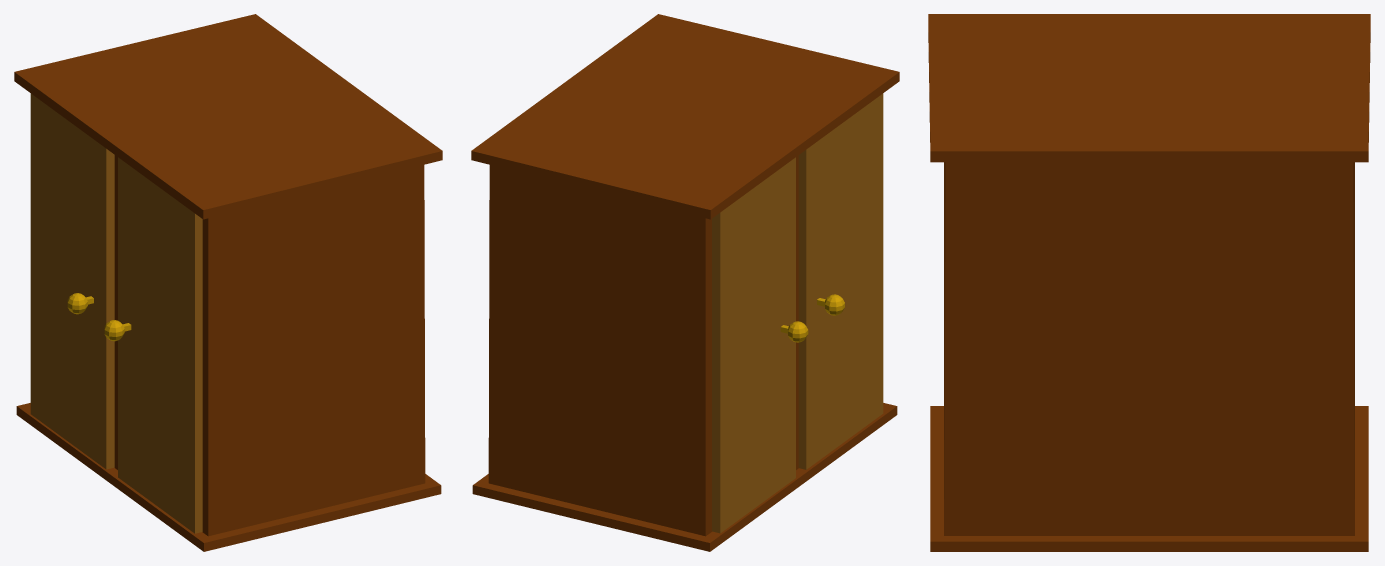
Rendered from _hkaf.fbx.
The picture shows the model from 3 angles, left to right: view 1: azimuth 30°, elevation 25°; view 2: azimuth 150°, elevation 25°; view 3: azimuth 270°, elevation 25°; orthographic projection. The views are drawn at different scales.
Visible parts, largest first — view 1: shkaf; view 2: shkaf; view 3: shkaf.
Part boxes in pixels (x1,y1,x2,y2): shkaf: [14, 14, 442, 551]; shkaf: [471, 14, 899, 551]; shkaf: [928, 14, 1370, 551].
Bounding box in the file's own units: 482 × 605 × 604.
